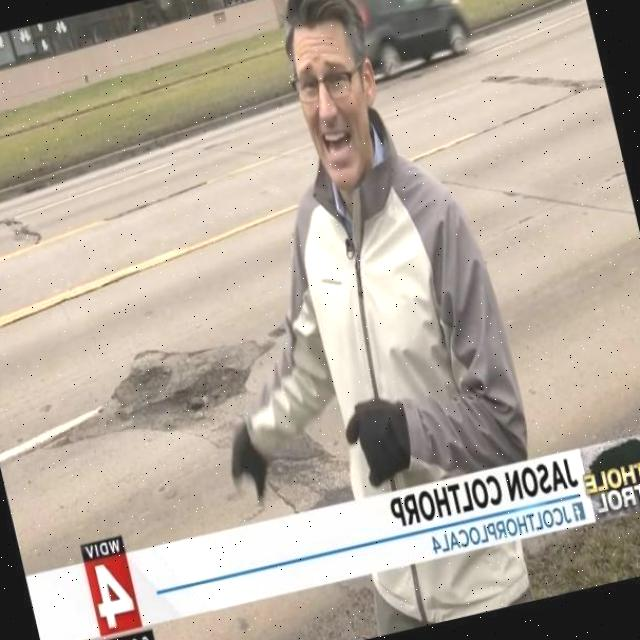pothole: (68, 339, 259, 443)
